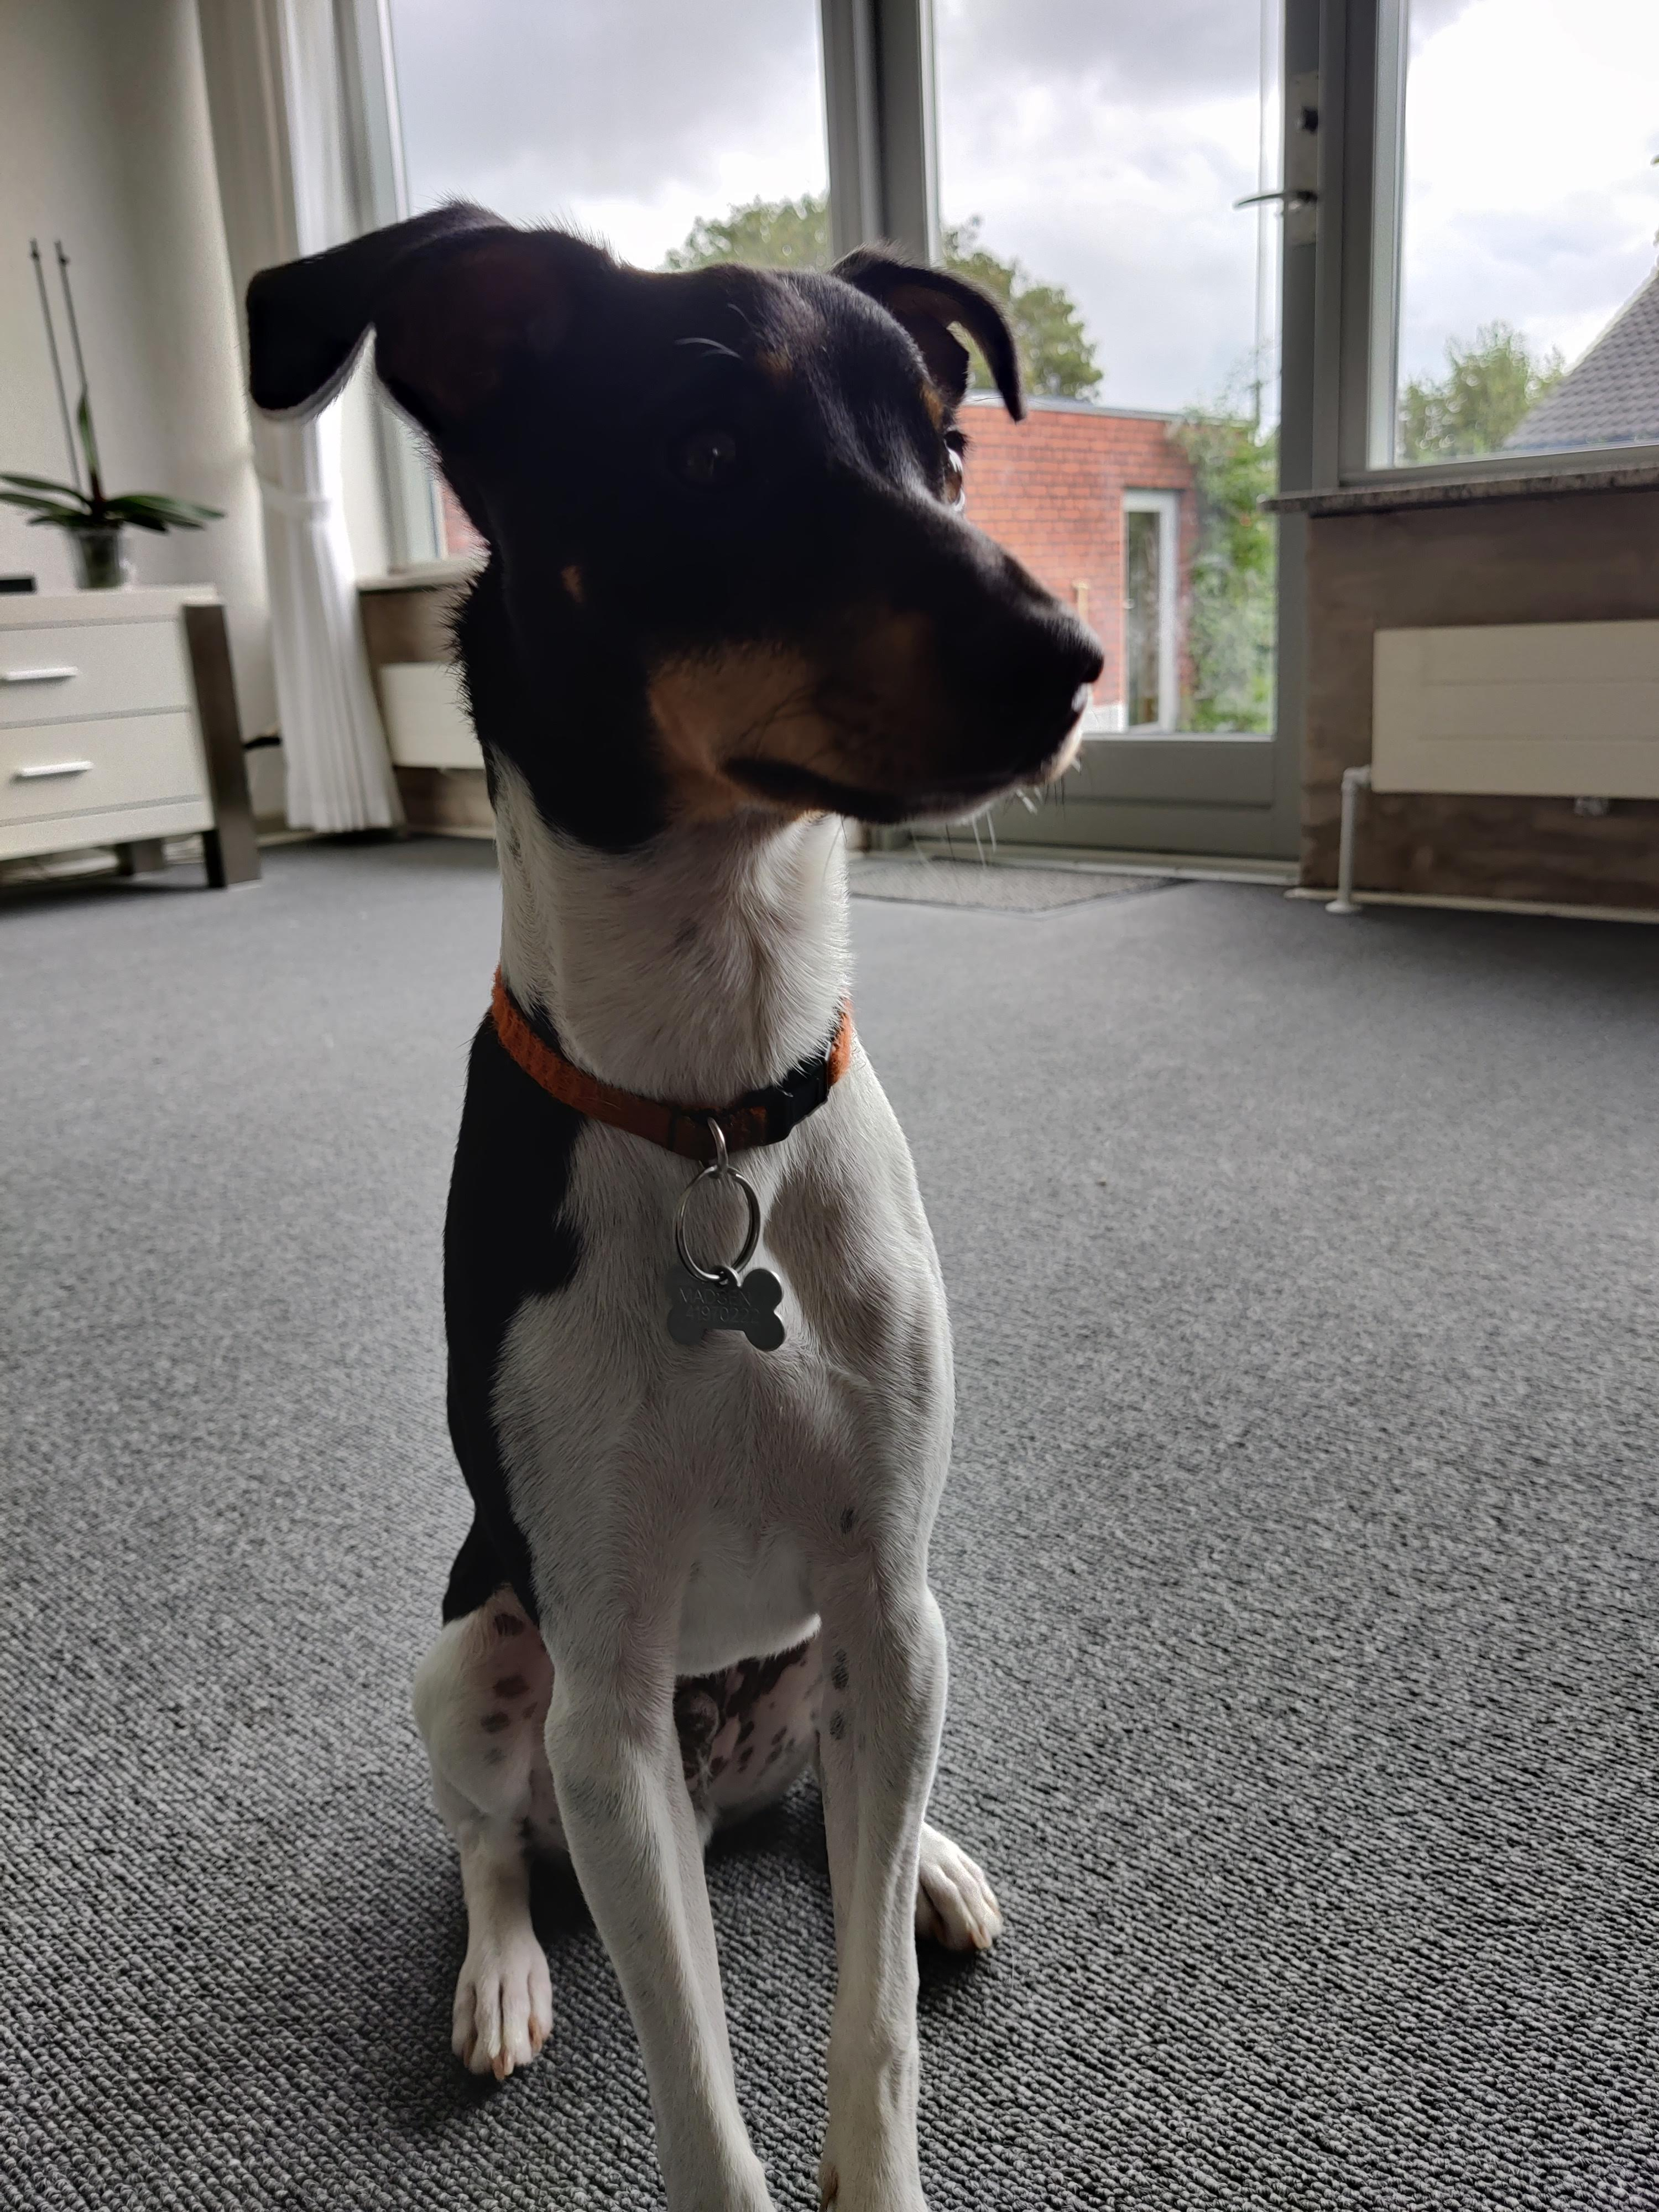Dog: (145, 138, 1223, 2212)
